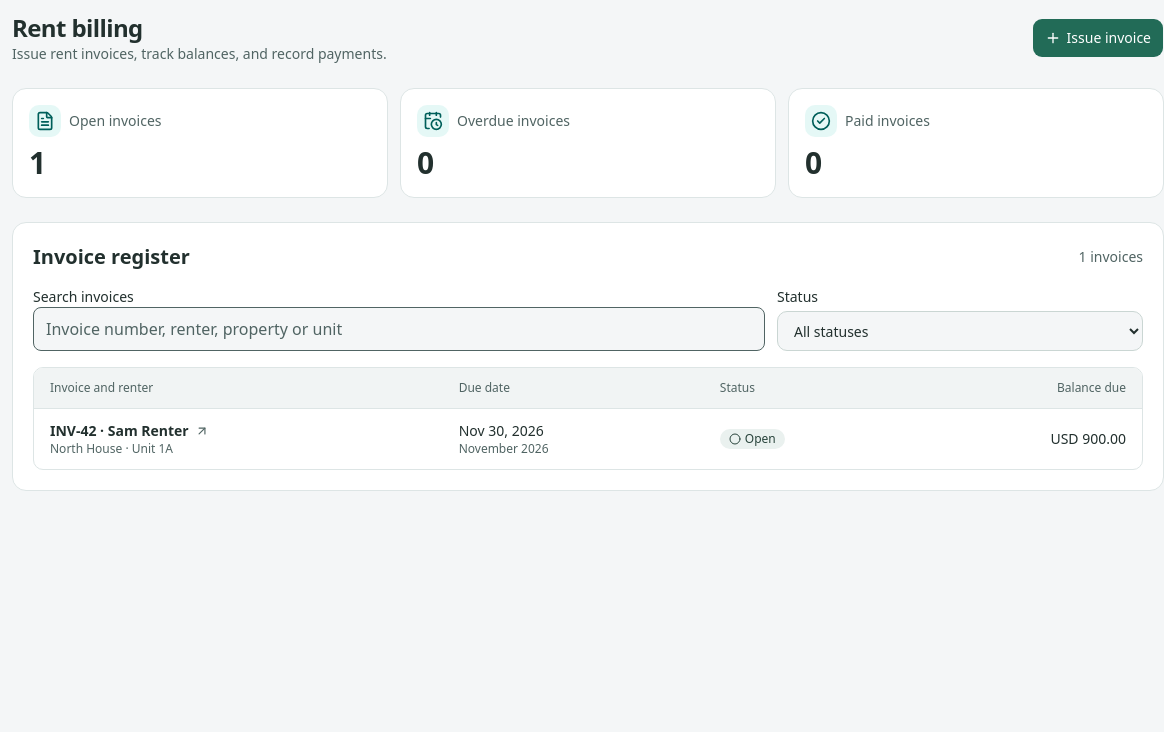
Test case: opens an invoice from the register and records a partial payment
This screenshot has width=1164, height=732.
Click the link "INV-42 · Sam Renter" at (129, 431), box [50,421,209,441]
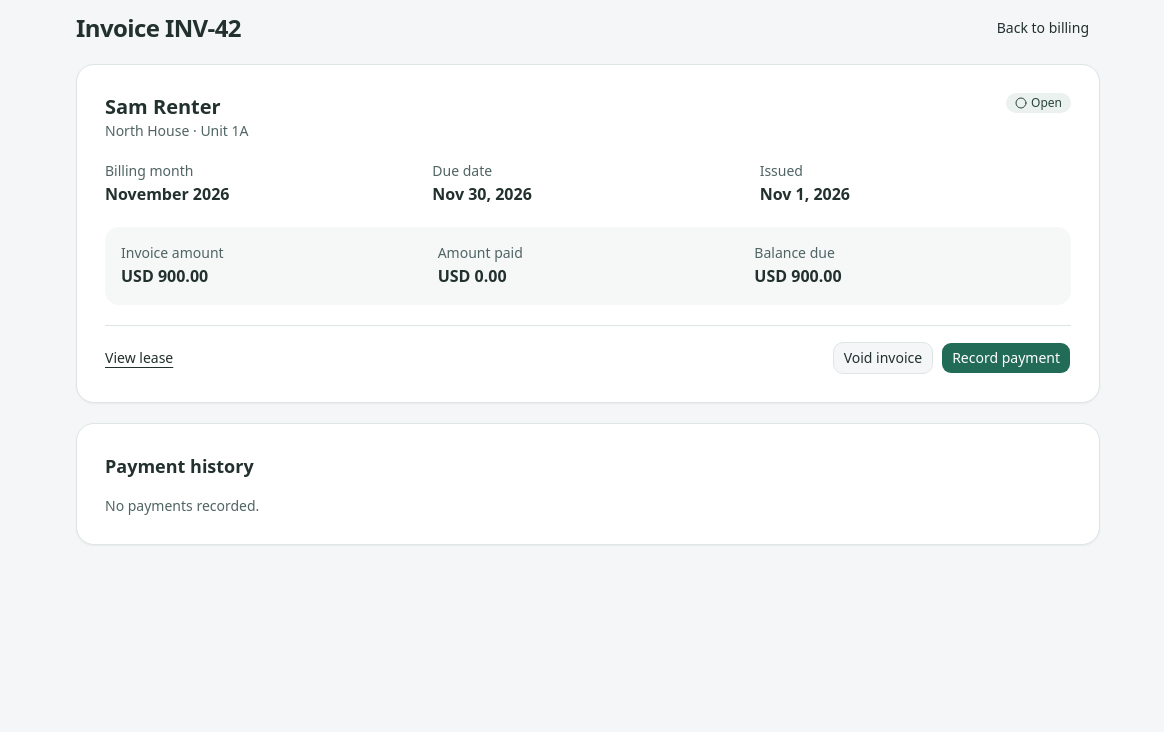
Click the button "Record payment" at (1006, 358), box [941,342,1071,374]
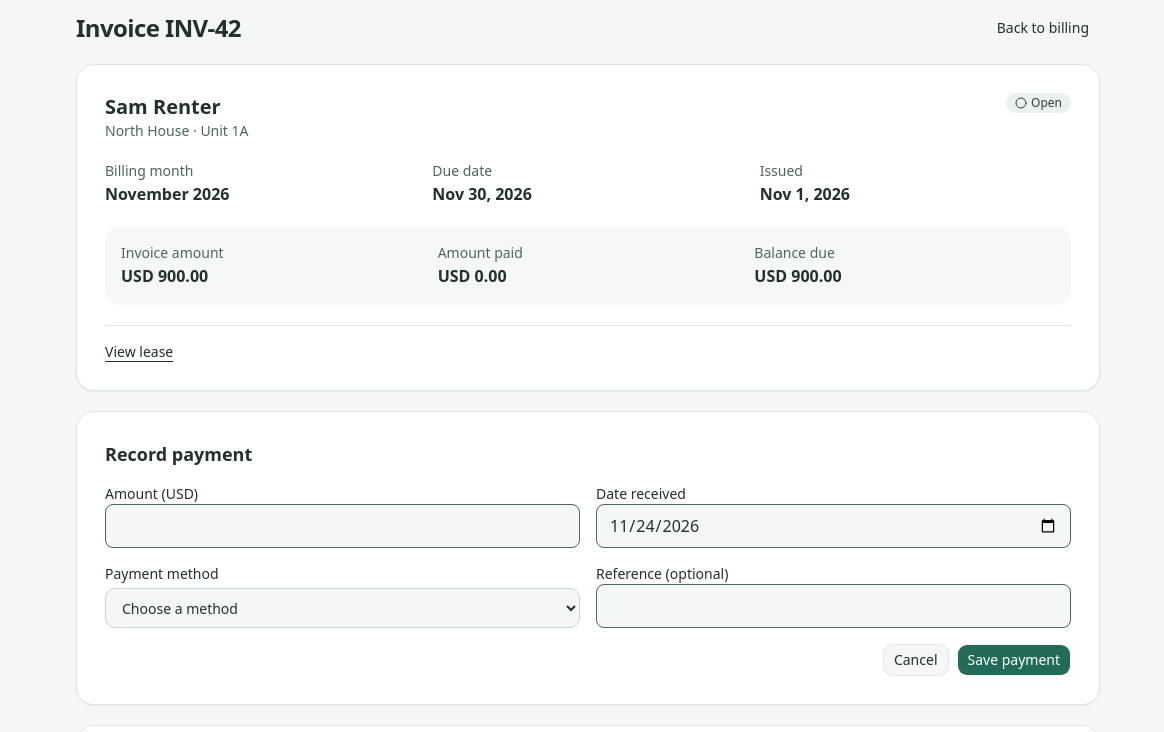
Type "300" into the number field labelled "Amount (USD)" at (342, 526), box [105,504,580,548]
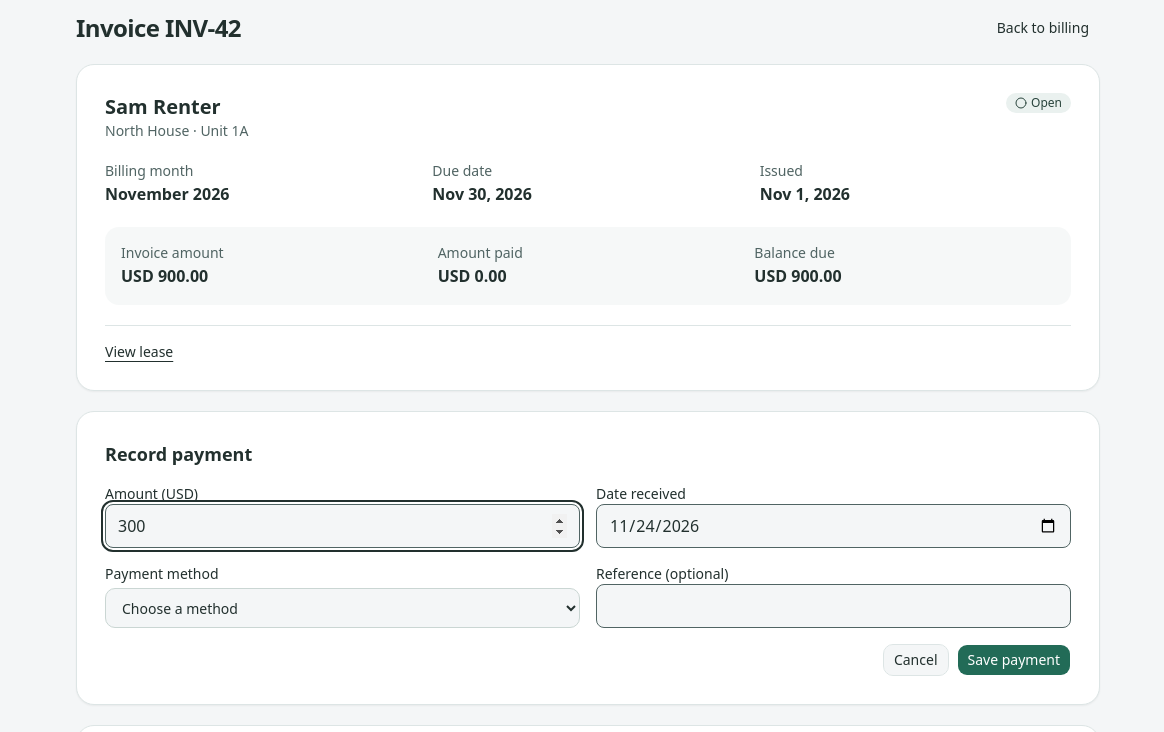
Select "Bank transfer" in the dropdown labelled "Payment method" at (342, 608), box [105,588,580,628]
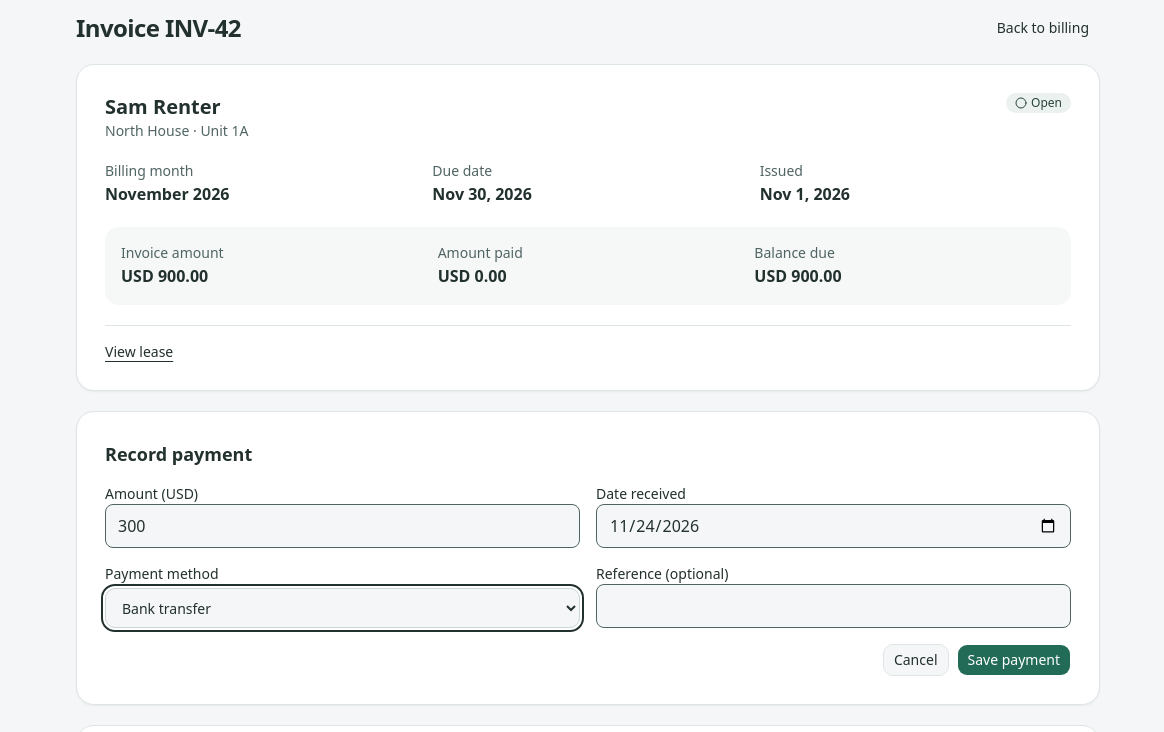
Type "Receipt 90" into the field labelled "Reference (optional)" at (834, 606), box [596,584,1071,628]
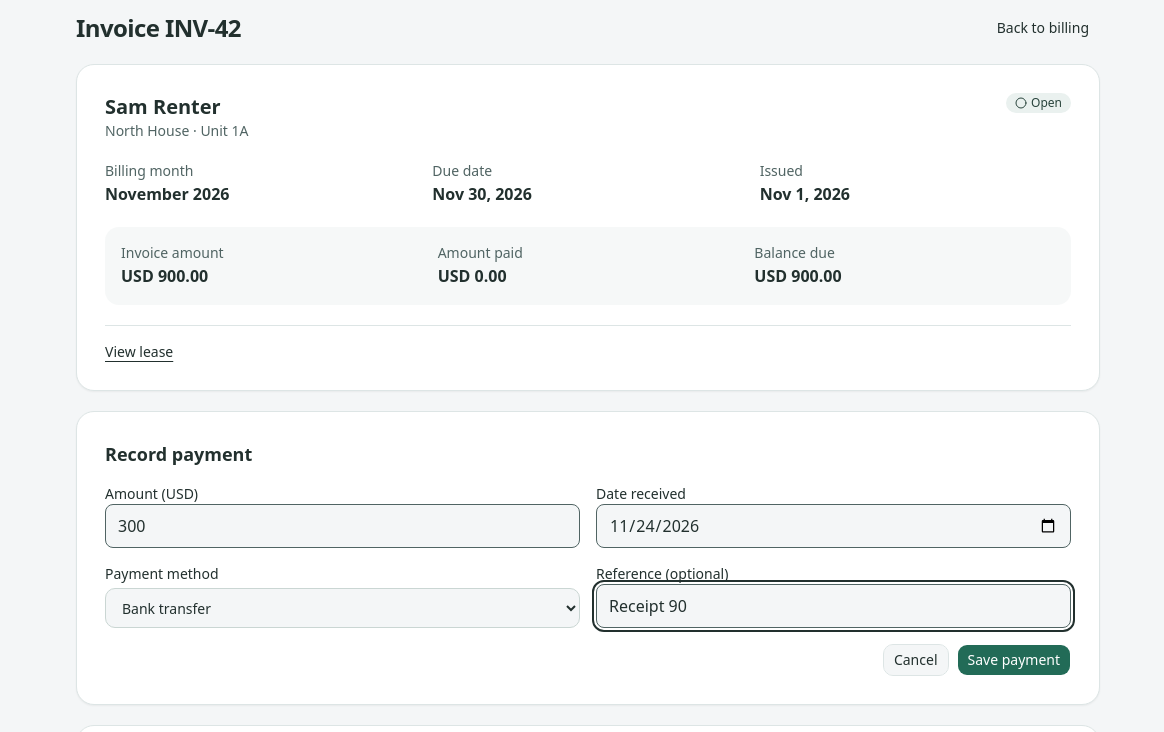
Click the button "Save payment" at (1014, 660), box [956,644,1071,676]
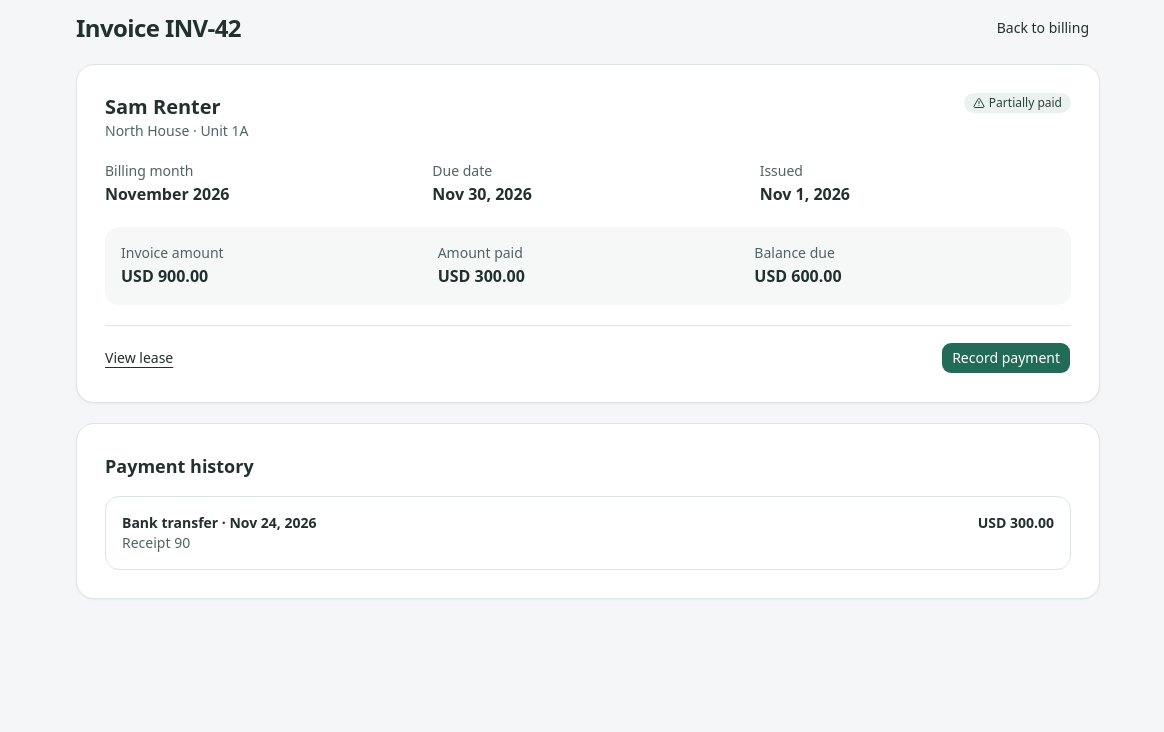
Expected: the button "Void invoice" is not shown
Result: the text "Partially paid" is shown at [964,93,1071,113]
Result: the text "Receipt 90" is shown at [122,533,190,552]
